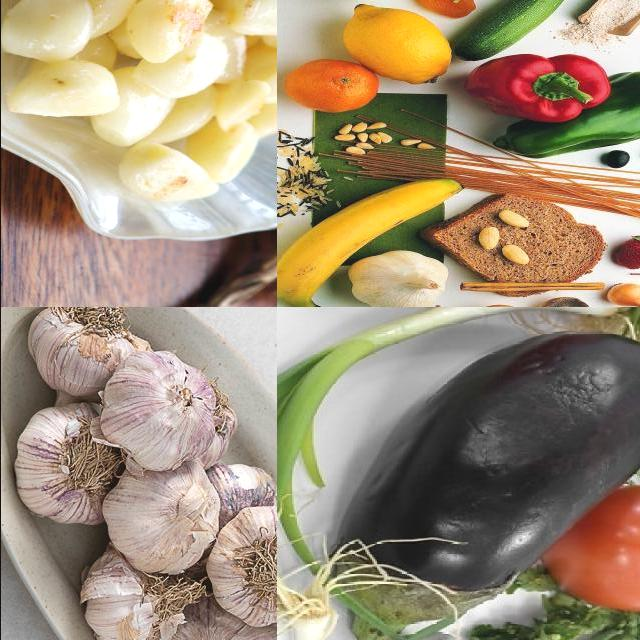bell_pepper: (476, 60, 606, 120)
eggplant: (326, 331, 640, 640)
garlic: (1, 1, 277, 209), (6, 405, 120, 527), (105, 459, 221, 573), (102, 360, 217, 470), (82, 545, 187, 640), (28, 308, 135, 398), (209, 509, 277, 627), (160, 589, 277, 640)
onion: (351, 253, 450, 308), (605, 285, 640, 308)
tomato: (554, 490, 640, 611)
zucchini: (454, 1, 583, 59)
